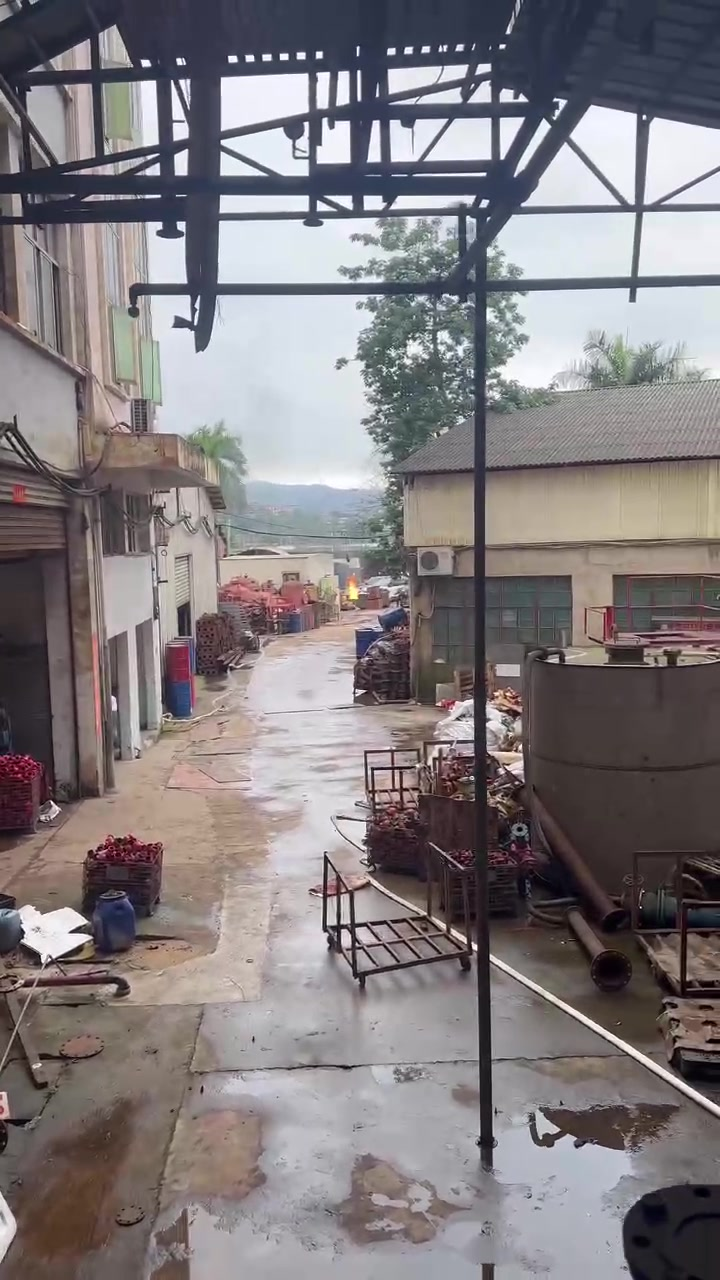fire: (348, 578, 357, 598)
